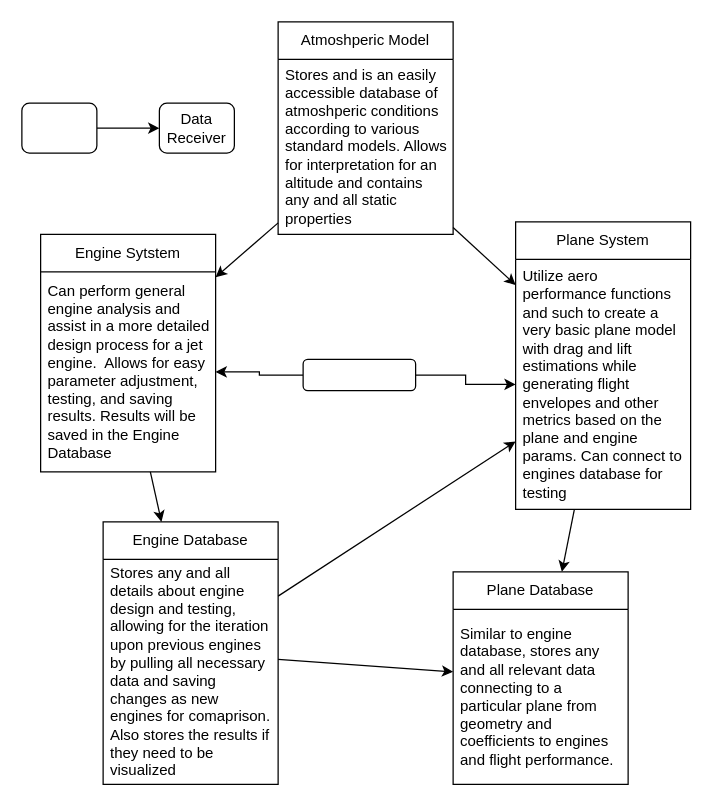
Image size: 713x806. Some labels were removed from this diagram. The centre of each missing label's shape, as x and y in pixels:
Analysis Tools: pixel 359 374
Data Provider: pixel 59 127
